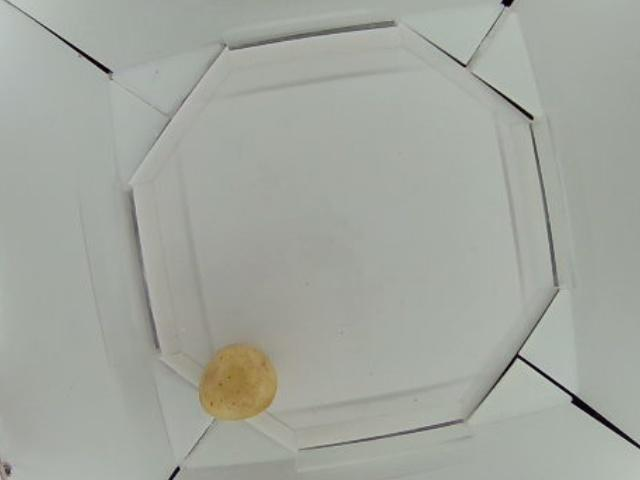Potato: (195, 345, 273, 425)
